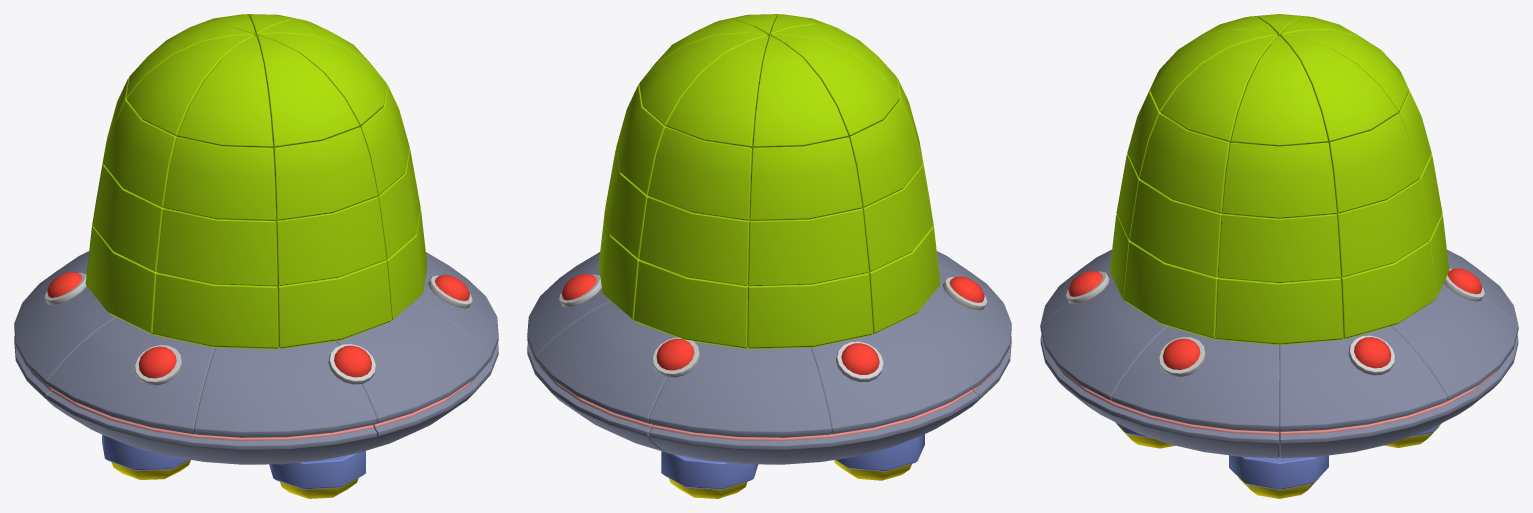
The model's file is Lv_153_StrangerV_33.fbx.
The picture shows the model from 3 angles, left to right: view 1: azimuth 30°, elevation 25°; view 2: azimuth 150°, elevation 25°; view 3: azimuth 270°, elevation 25°; orthographic projection.
Visible parts, largest first — view 1: Strange_Visitor_63, Strange_Visitor_64, Strange_Visitor_62, Strange_Visitor_66, Strange_Visitor_10, Strange_Visitor_26, Strange_Visitor_18, Strange_Visitor_11, Strange_Visitor_27, Strange_Visitor_19, Strange_Visitor_2, Strange_Visitor_3 (+23 smaller); view 2: Strange_Visitor_58, Strange_Visitor_65, Strange_Visitor_59, Strange_Visitor_67, Strange_Visitor_16, Strange_Visitor_32, Strange_Visitor_24, Strange_Visitor_15, Strange_Visitor_31, Strange_Visitor_23, Strange_Visitor_8, Strange_Visitor_7 (+23 smaller); view 3: Strange_Visitor_60, Strange_Visitor_61, Strange_Visitor_62, Strange_Visitor_59, Strange_Visitor_29, Strange_Visitor_13, Strange_Visitor_21, Strange_Visitor_5, Strange_Visitor_12, Strange_Visitor_14, Strange_Visitor_6, Strange_Visitor_4 (+23 smaller).
Boxes of the visible parts, box(x1,y1,x2,y2) form: Strange_Visitor_63: box(194, 341, 377, 437); Strange_Visitor_64: box(47, 317, 214, 434); Strange_Visitor_62: box(336, 301, 490, 424); Strange_Visitor_66: box(47, 389, 377, 464); Strange_Visitor_10: box(163, 137, 276, 220); Strange_Visitor_26: box(152, 273, 278, 349); Strange_Visitor_18: box(156, 208, 277, 286); Strange_Visitor_11: box(273, 127, 377, 220); Strange_Visitor_27: box(277, 260, 391, 348); Strange_Visitor_19: box(275, 197, 386, 286); Strange_Visitor_2: box(177, 35, 273, 147); Strange_Visitor_3: box(257, 35, 359, 149); Strange_Visitor_58: box(649, 341, 831, 437); Strange_Visitor_65: box(811, 317, 978, 434); Strange_Visitor_59: box(535, 301, 675, 424); Strange_Visitor_67: box(649, 389, 978, 464); Strange_Visitor_16: box(749, 137, 862, 220); Strange_Visitor_32: box(747, 273, 873, 349); Strange_Visitor_24: box(748, 208, 869, 286); Strange_Visitor_15: box(648, 127, 752, 220); Strange_Visitor_31: box(634, 260, 748, 348); Strange_Visitor_23: box(639, 197, 750, 286); Strange_Visitor_8: box(752, 35, 848, 147); Strange_Visitor_7: box(666, 35, 769, 149); Strange_Visitor_60: box(1279, 326, 1447, 431); Strange_Visitor_61: box(1111, 326, 1279, 431); Strange_Visitor_62: box(1040, 281, 1167, 402); Strange_Visitor_59: box(1391, 283, 1518, 402); Strange_Visitor_29: box(1215, 278, 1343, 345); Strange_Visitor_13: box(1221, 142, 1337, 218); Strange_Visitor_21: box(1217, 214, 1341, 283); Strange_Visitor_5: box(1230, 36, 1328, 146); Strange_Visitor_12: box(1139, 113, 1230, 213); Strange_Visitor_14: box(1328, 113, 1419, 213); Strange_Visitor_6: box(1280, 35, 1398, 142); Strange_Visitor_4: box(1160, 35, 1278, 142).
Bounding box in the file's own units: 6.3 × 5.94 × 6.3.
